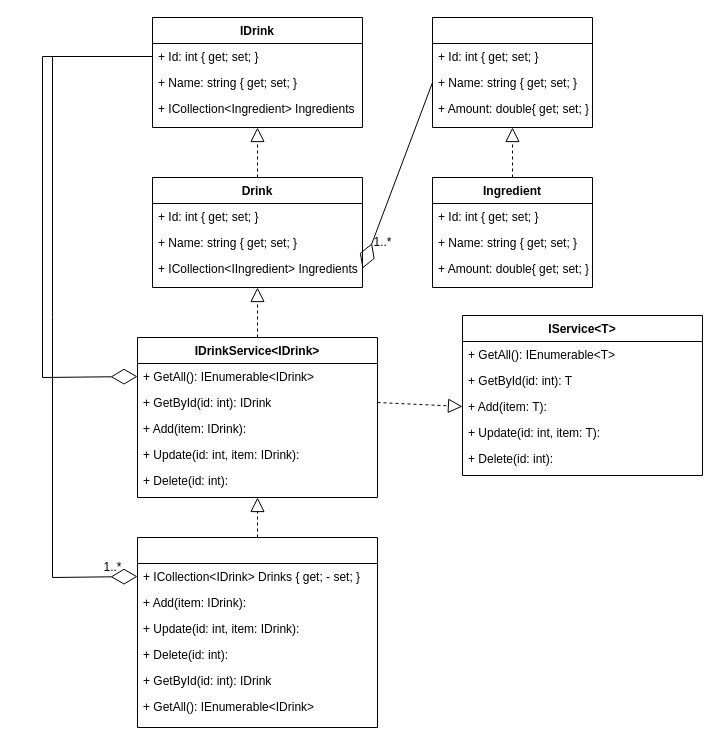
This 720x745 diagram has some shape labels left out. Here are the shapes that lost their labels. From the top down, the box of each, then its label:
(432, 16, 592, 128): IIngredient
(136, 536, 378, 728): DrinkService
